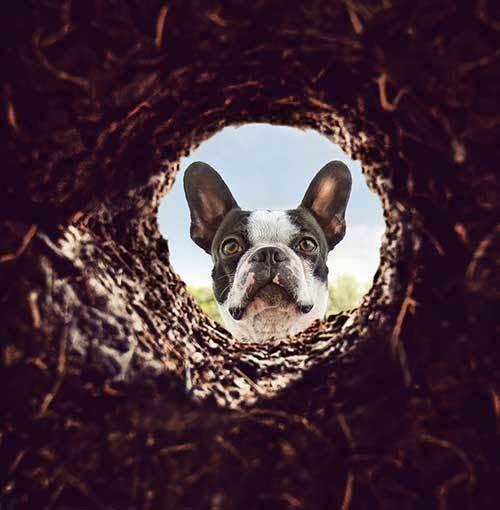adult_dog: (183, 161, 352, 344)
